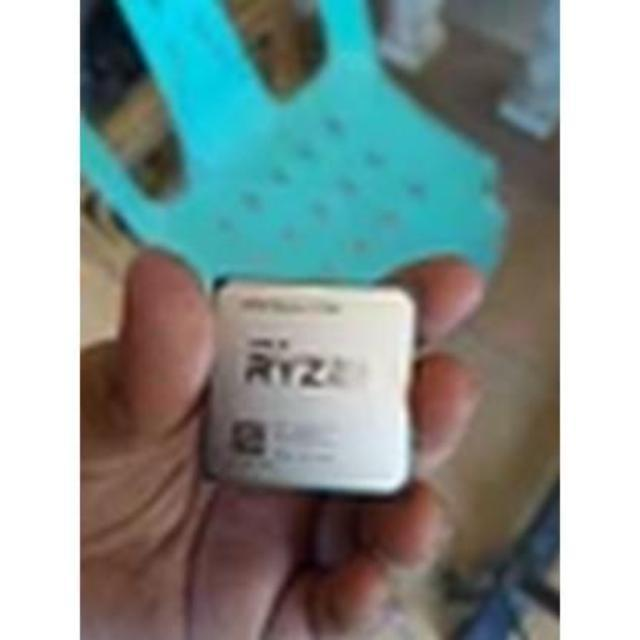CPU: (208, 280, 412, 489)
